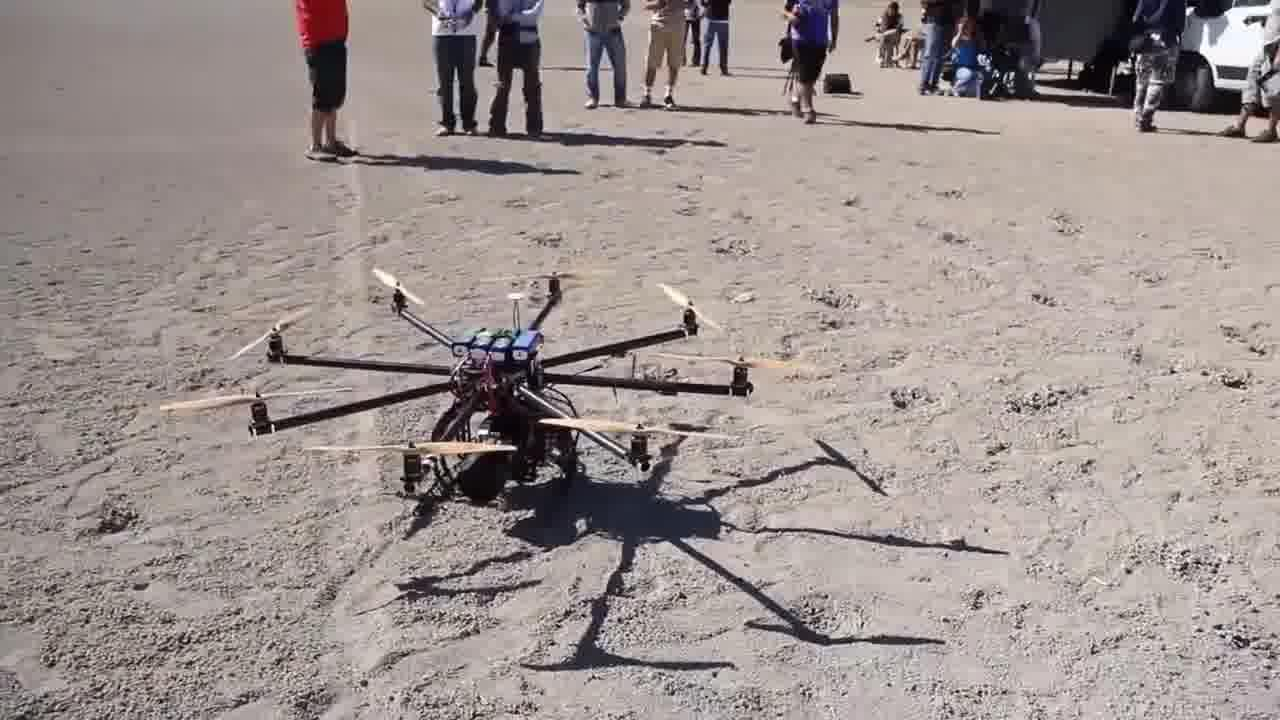drone: (194, 266, 801, 521)
